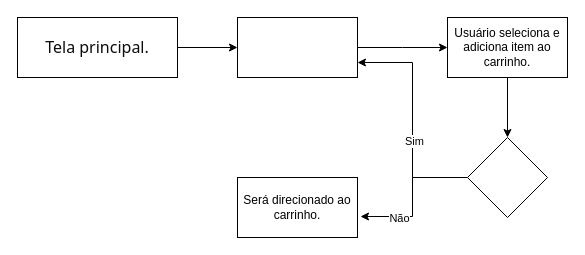
The diagram is 585 pixels wide and 255 high, and some of its shapes have lost their labels. Here are the shapes that lost their labels. From the top down, the centre of each, then its label:
the point at 297,47: Busca, categorias e ofertas.
the point at 507,177: Continuar compras?
